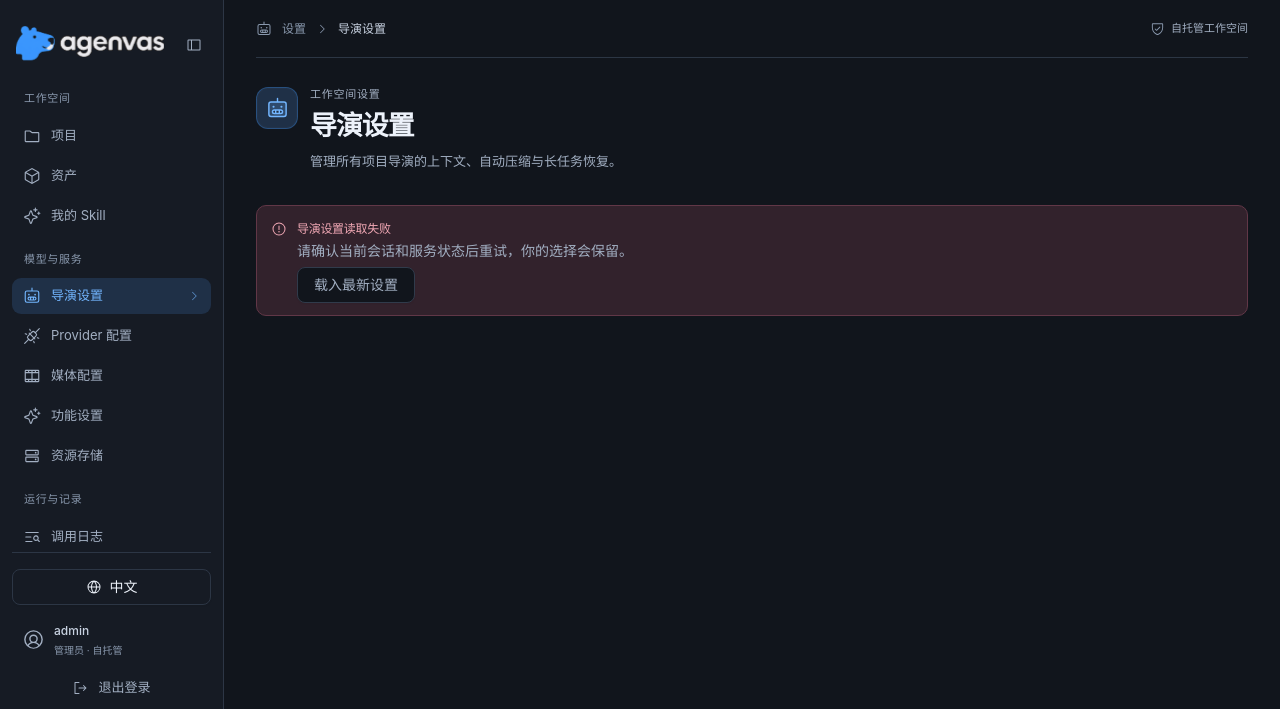
Test: DirectorSettingsPage › does not display or save invented defaults after a failed initial read
The image size is (1280, 709).
Check: the message shows "导演设置读取失败", box top-left (297, 221), bottom-right (391, 236)
Click the button "载入最新设置" at x=356, y=285, box top-left (297, 267), bottom-right (415, 303)
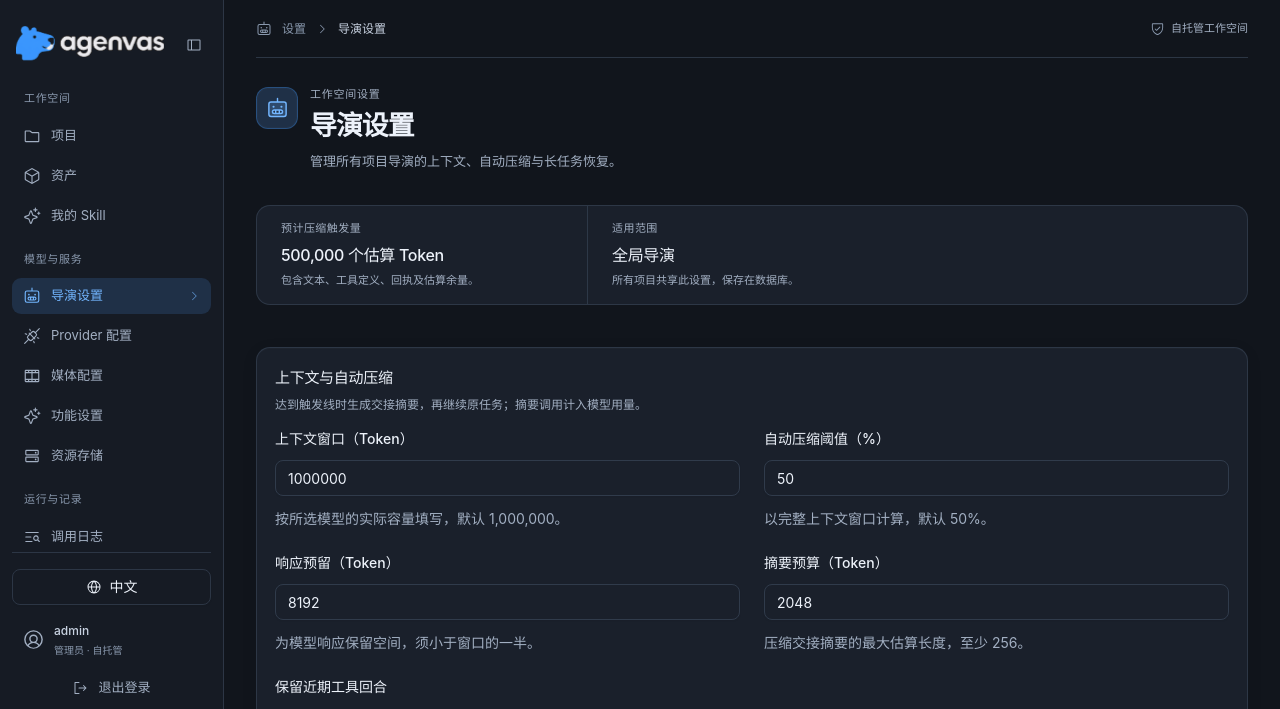
Check: the number field labelled "上下文窗口（Token）" holds "1000000", box top-left (275, 460), bottom-right (740, 496)
